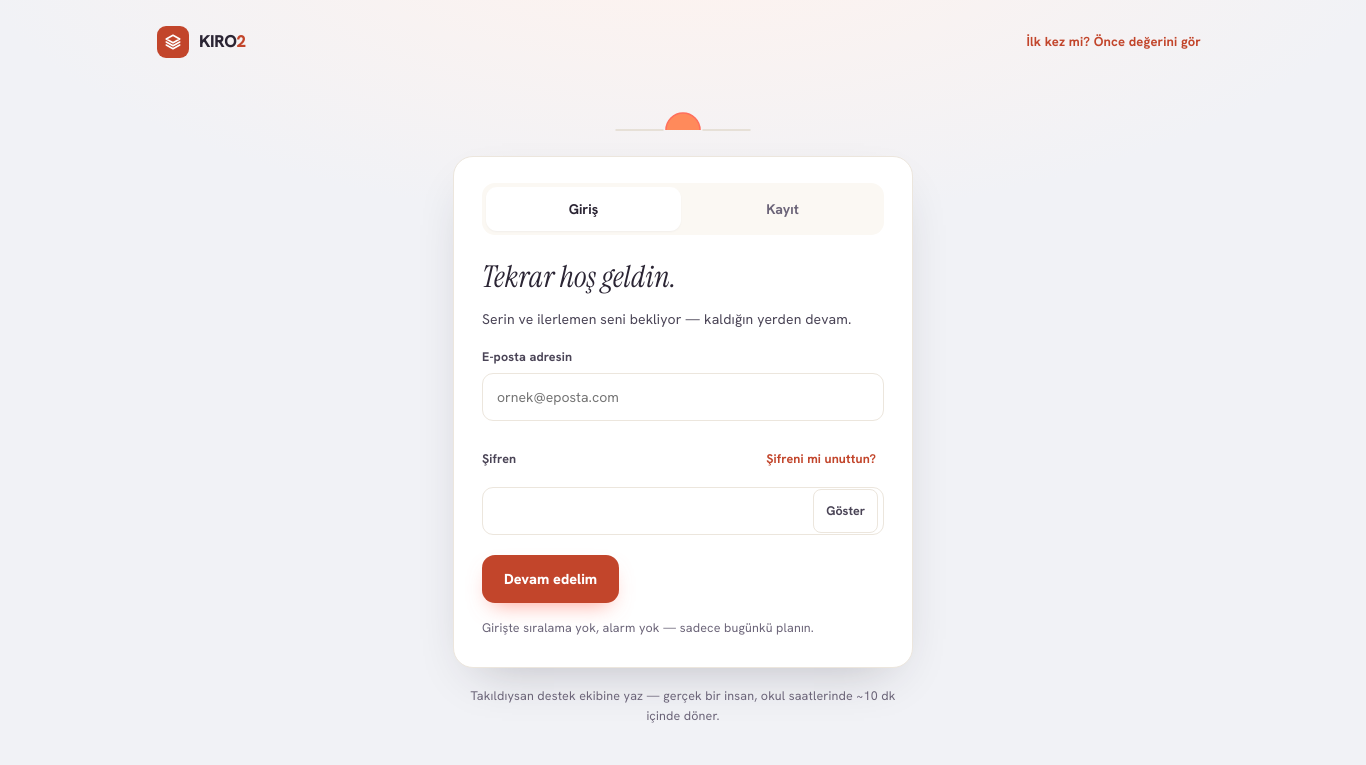
Test case: GirisPage › geçersiz e-posta amber hint gösterir, absence-dili yok
This screenshot has width=1366, height=765.
Type "bozuk" into the field labelled "E-posta adresin" at (683, 397), box [482,373,884,421]
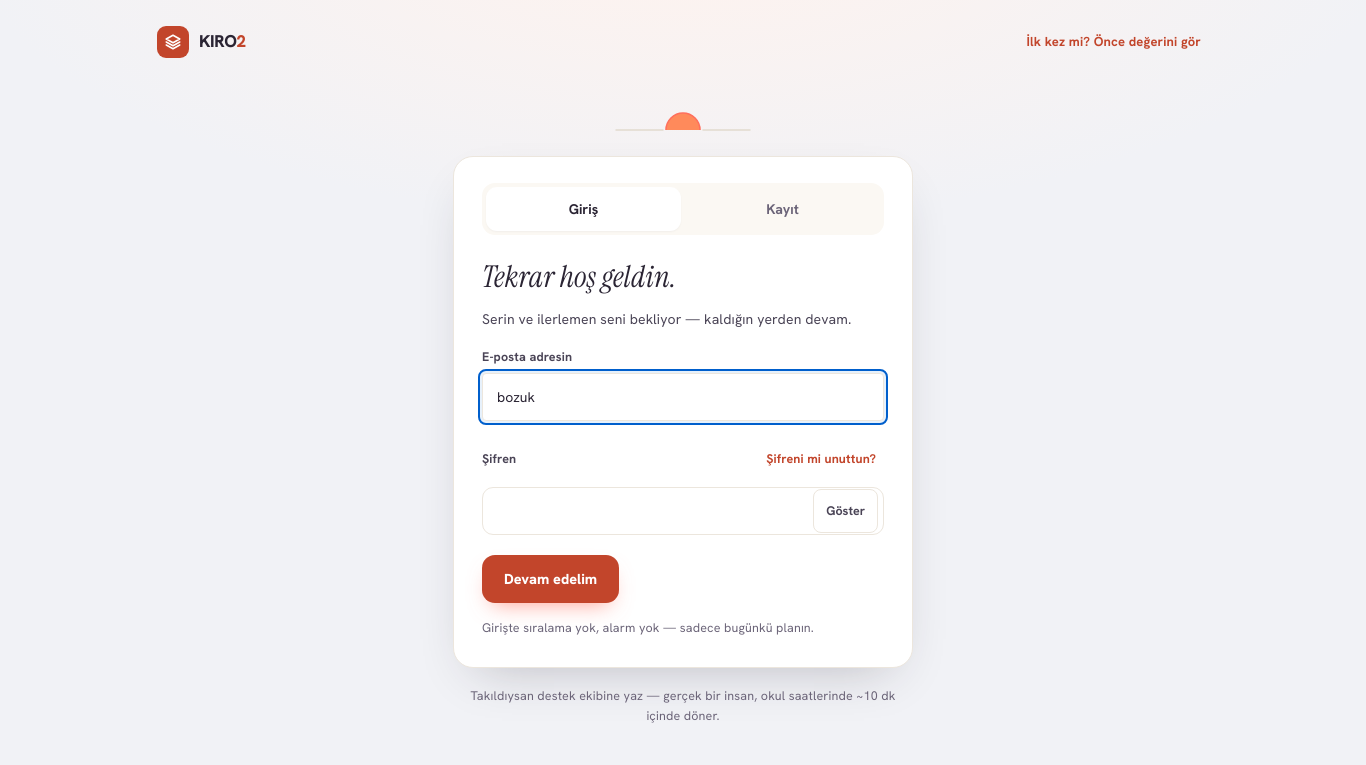
Type "sifre123" into the password field labelled "Şifren" at (683, 511), box [482,487,884,535]
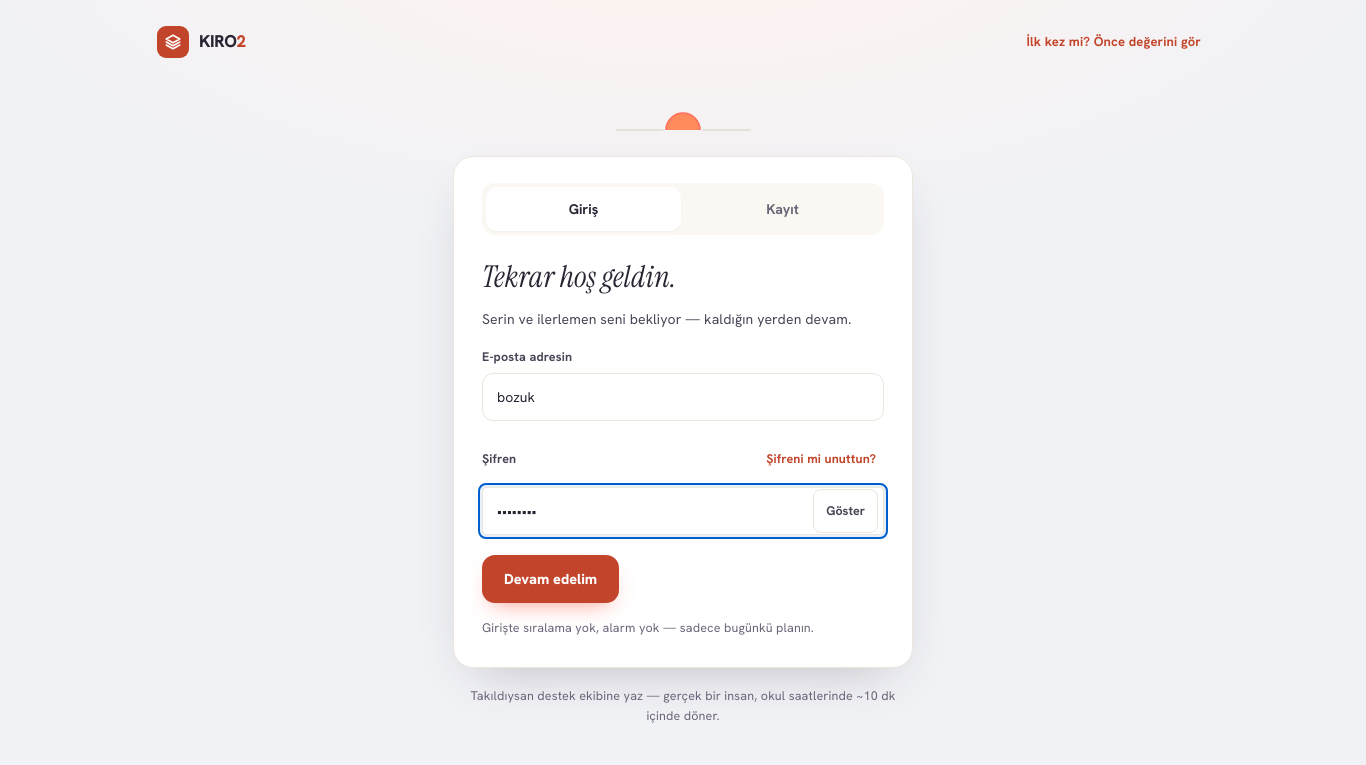
Click the button "Devam edelim" at (551, 579), box [482,555,619,603]
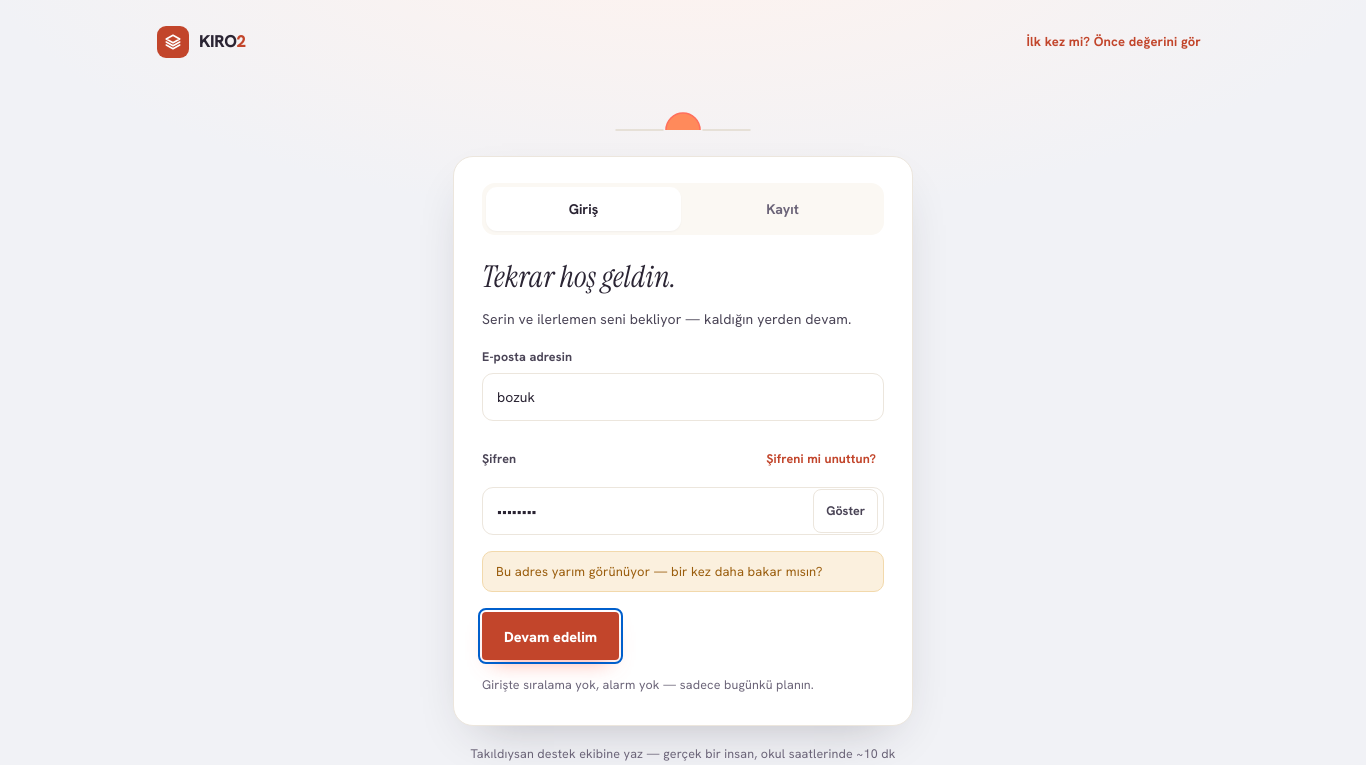
Now the text "Bu adres yarım görünüyor — bir kez daha bakar mısın?" is shown, box [482,551,884,592]
